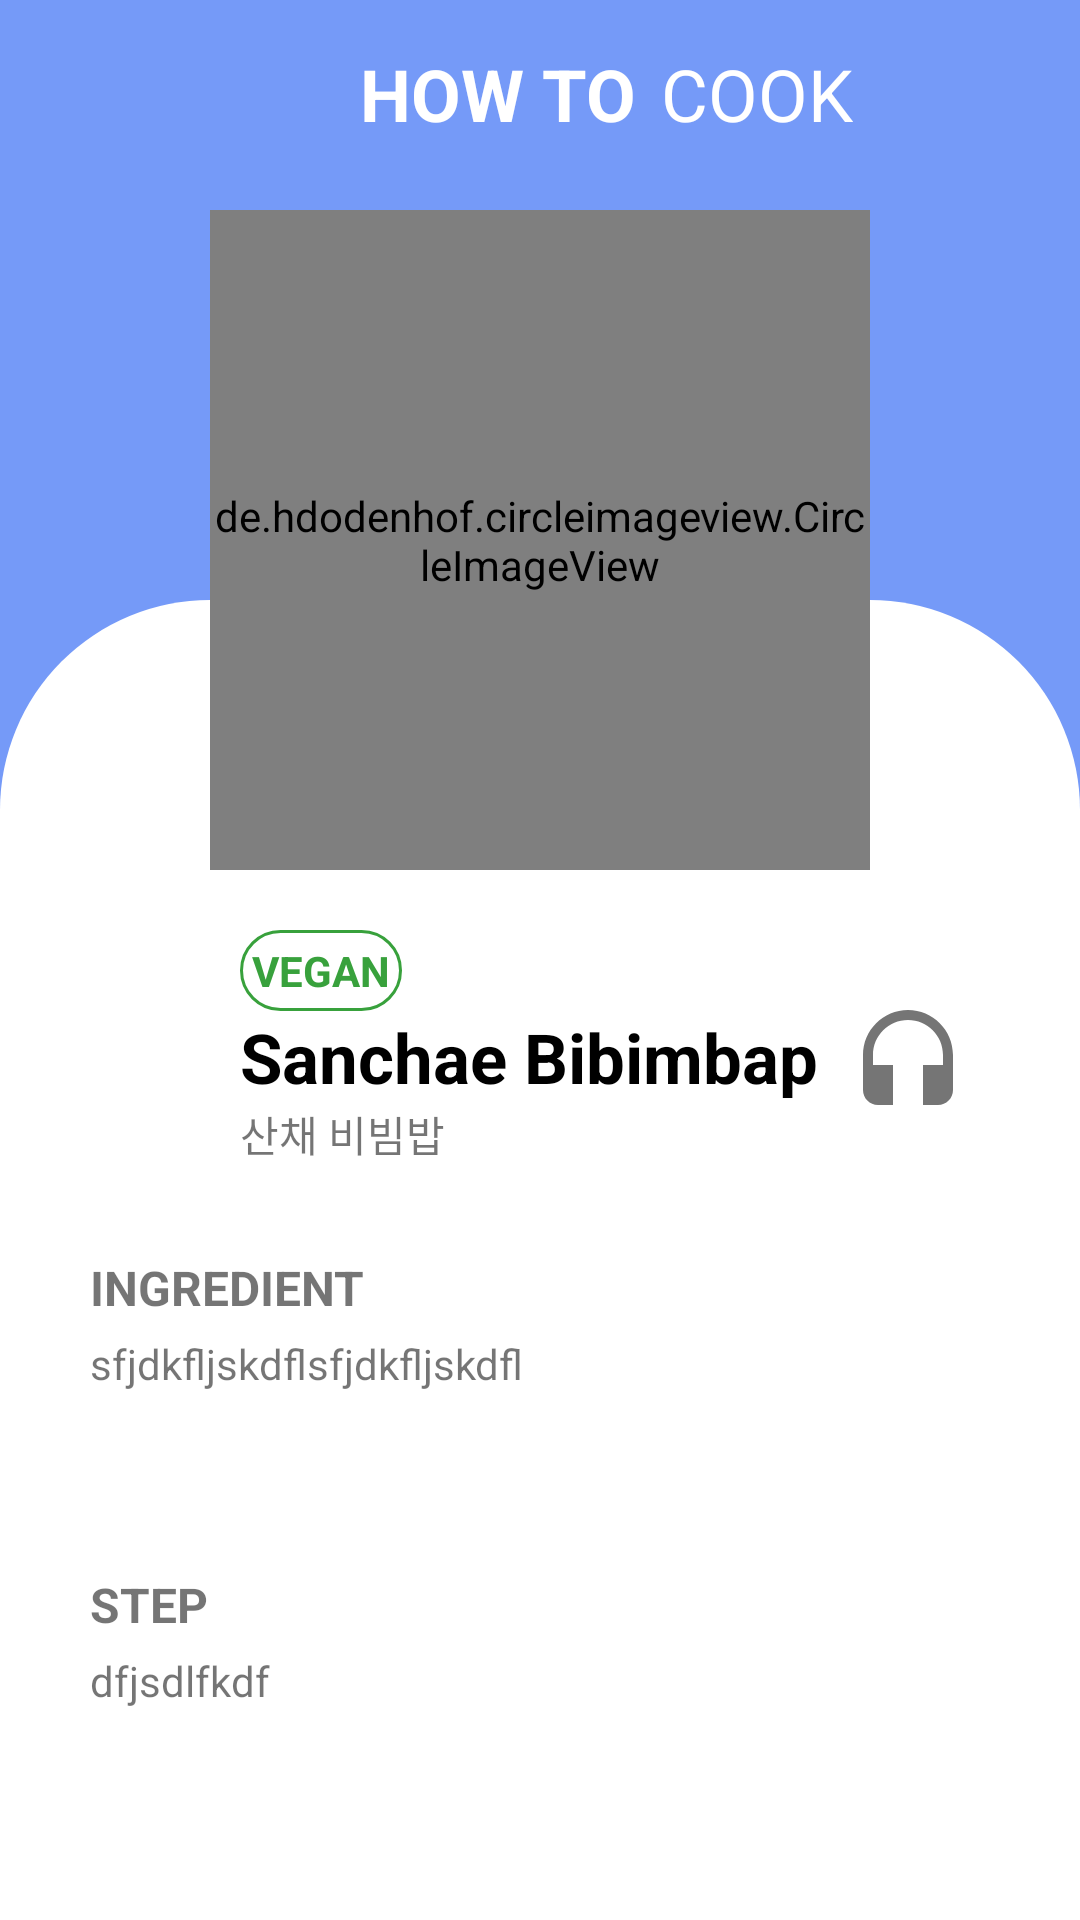

Where icons sit on this 1080 x 1920 app screen, as (x1, y1, x2, y2):
headset: (863, 1010, 953, 1105)
